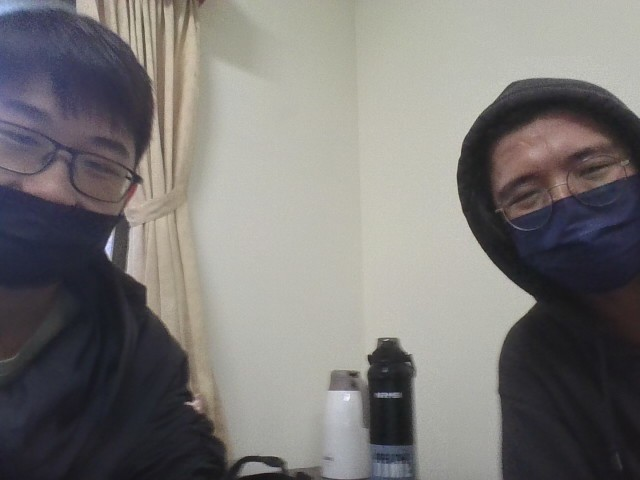No_Helmet: (450, 69, 640, 309), (0, 0, 160, 226)
person: (0, 1, 293, 479), (393, 36, 639, 480)
